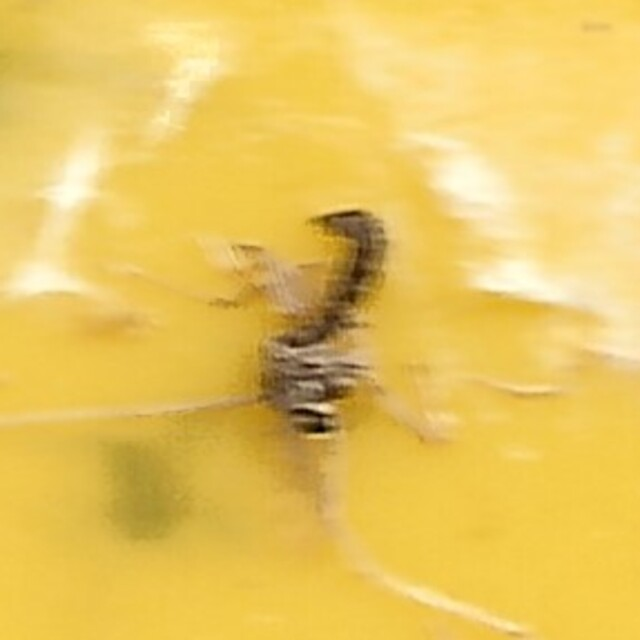Nematocera: (223, 188, 417, 452)
